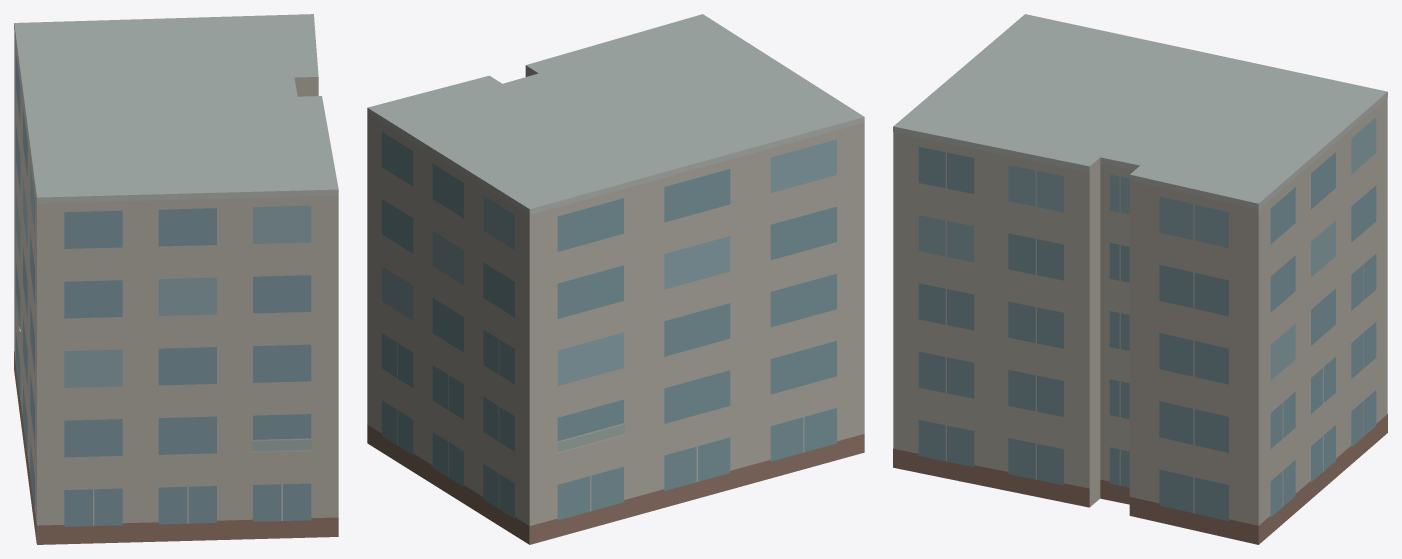
File: survey-upis-32533871.glb
3 views of the same model, side by side, from view 1: azimuth 30°, elevation 25°; view 2: azimuth 150°, elevation 25°; view 3: azimuth 270°, elevation 25° (orthographic). The views are drawn at different scales.
Parts seen in each view (by area): view 1: survey-upis-32533871.tmp; view 2: survey-upis-32533871.tmp; view 3: survey-upis-32533871.tmp.
Boxes of the visible parts, x1,y1,x2,y2 form: survey-upis-32533871.tmp: (14,14,338,544); survey-upis-32533871.tmp: (367,14,864,544); survey-upis-32533871.tmp: (893,14,1387,544).
Size of the model in its own units: 16.94 by 14.2 by 18.67.
